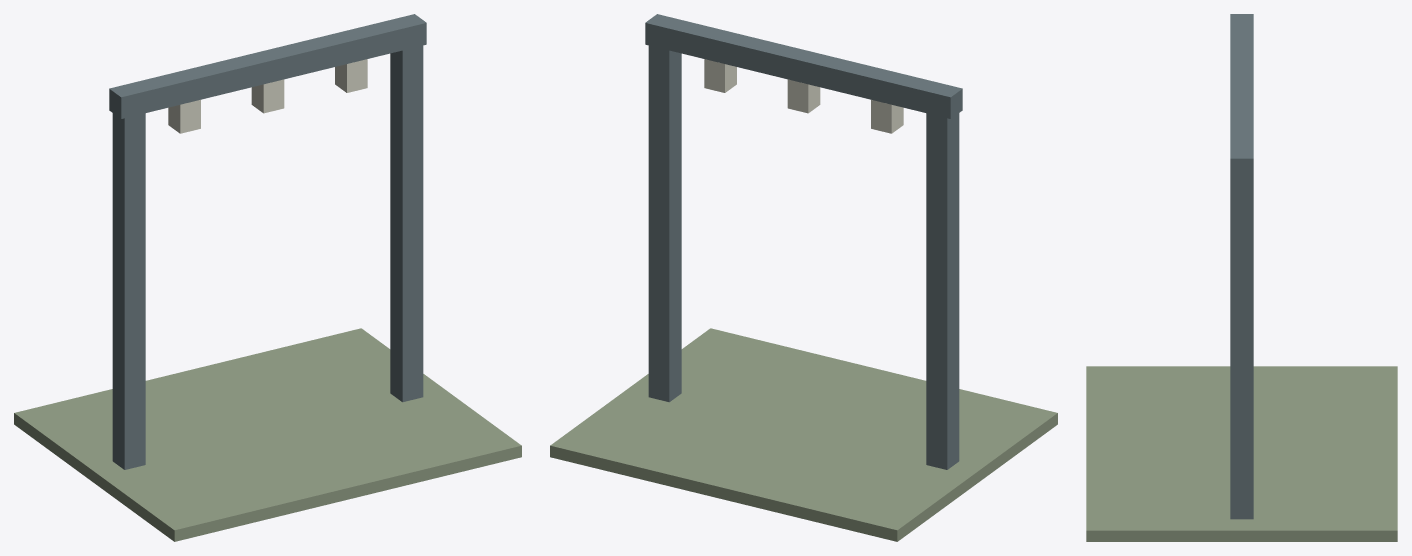
The model's file is zombie-quarantine-streets-decontamination-frame-f5949880__19329.glb.
3 renders of one model, left to right at view 1: azimuth 30°, elevation 25°; view 2: azimuth 150°, elevation 25°; view 3: azimuth 270°, elevation 25°, orthographic. The views are drawn at different scales.
Visible parts, largest first — view 1: decontamination-frame; view 2: decontamination-frame; view 3: decontamination-frame.
Part boxes in pixels (x1=…): decontamination-frame: x1=14, y1=14, x2=521, y2=541; decontamination-frame: x1=550, y1=14, x2=1057, y2=541; decontamination-frame: x1=1086, y1=14, x2=1397, y2=541.
Bounding box in the file's own units: 2.5 × 2.65 × 2.
